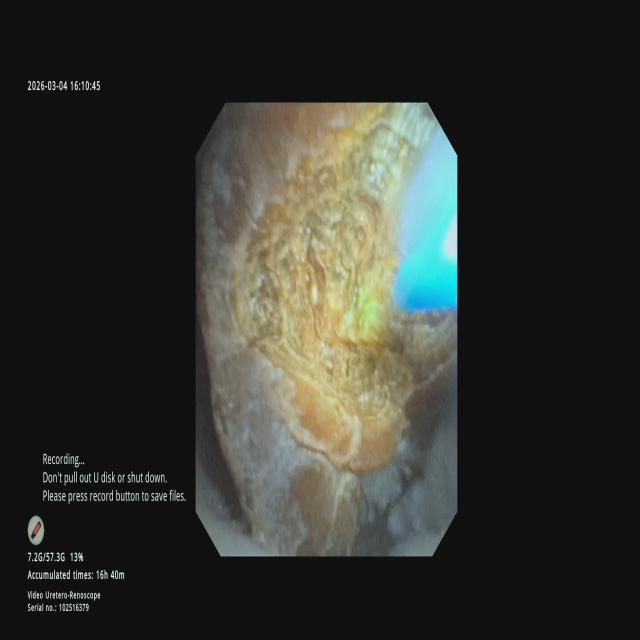laser_dot: (358, 289, 381, 332)
stone-new: (195, 103, 457, 554)
